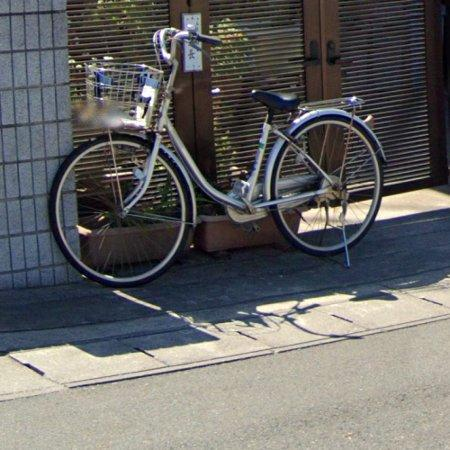bicycles: (50, 27, 386, 287)
